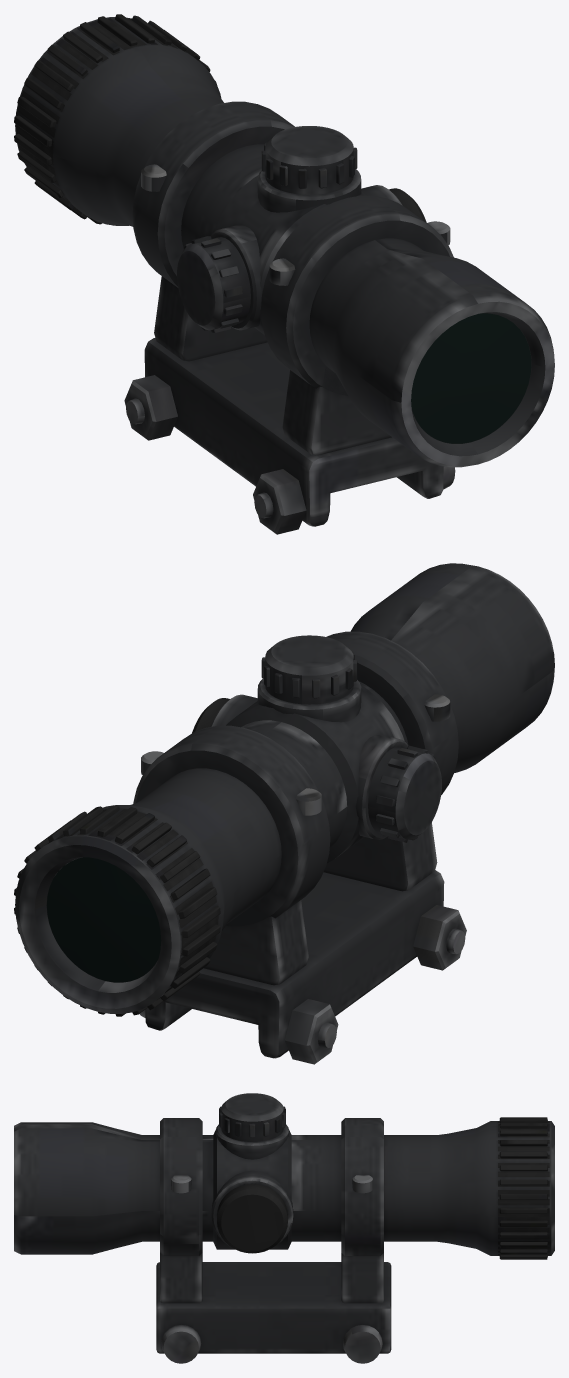
The model's file is scope_2x.glb.
The picture shows the model from 3 angles, top to bottom: view 1: azimuth 30°, elevation 25°; view 2: azimuth 150°, elevation 25°; view 3: azimuth 270°, elevation 25°; orthographic projection. The views are drawn at different scales.
Visible parts, largest first — view 1: body, lens_front; view 2: body, lens; view 3: body.
Boxes of the visible parts, x1,y1,x2,y2 form: body: [14, 14, 554, 534]; lens_front: [411, 313, 531, 443]; body: [14, 563, 554, 1064]; lens: [46, 857, 161, 982]; body: [14, 1093, 554, 1363].
Size of the model in its own units: 0.049 by 0.0721 by 0.152.
Materials: 2 (1 with a texture image).
